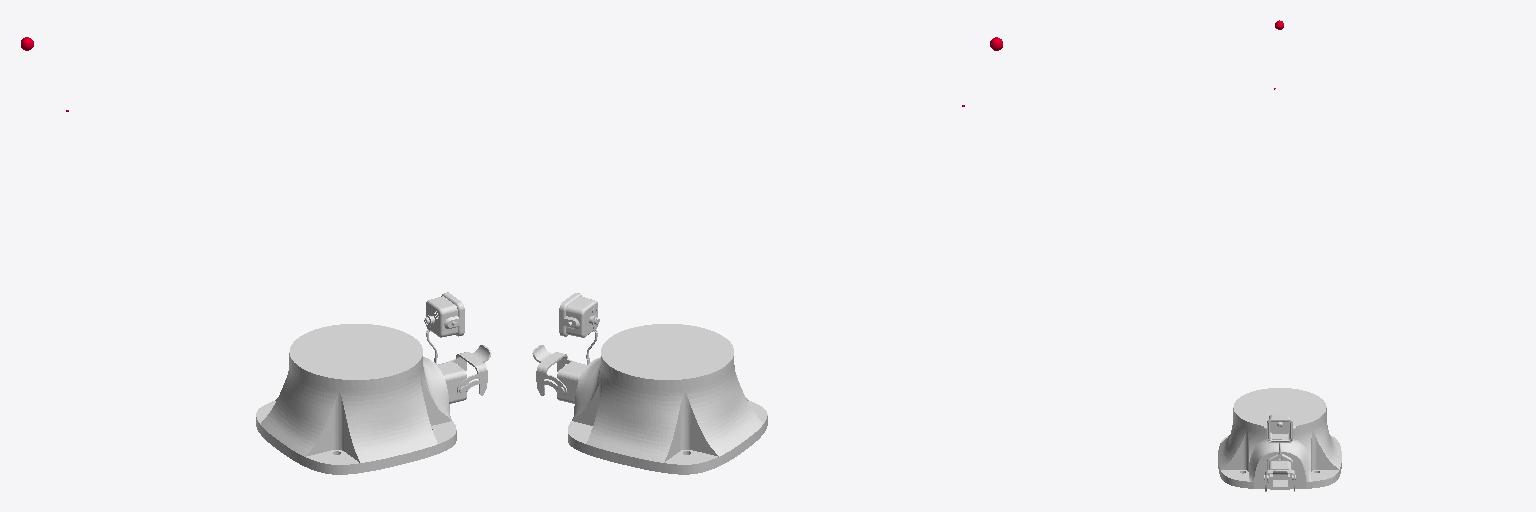
URDF robot description (mg400):
<?xml version="1.0" ?>
<robot name="mg400">
	<link name="world">
		<inertial>
			<origin rpy="0.00000 -0.00000 0.00000" xyz="0.00000 0.00000 0.00000"/>
			<mass value="0.00000"/>
			<inertia ixx="0.00000" ixy="0" ixz="0" iyy="0.00000" iyz="0" izz="0.00000"/>
		</inertial>
	</link>
	<link name="base_link">
		<inertial>
			<origin rpy="0.00000 -0.00000 0.00000" xyz="0.00060 -0.00000 0.05609"/>
			<mass value="3.62165"/>
			<inertia ixx="0.01587" ixy="0" ixz="0" iyy="0.01587" iyz="0" izz="0.02319"/>
		</inertial>
		<visual>
			<origin rpy="0.00000 -0.00000 0.00000" xyz="0.00000 0.00000 0.00000"/>
			<geometry>
				<mesh filename="../robot_arm_assets/mg400/meshes/base_link.STL" scale="1.00000 1.00000 1.00000"/>
			</geometry>
			<material name="mat_0">
				<color rgba="0.90000 0.90000 0.90000 1.00000" />
			</material>
		</visual>
		<collision>
			<origin rpy="0.00000 -0.00000 0.00000" xyz="0.00000 0.00000 0.00000"/>
			<geometry>
				<mesh filename="../robot_arm_assets/mg400/meshes/base_link.STL" scale="1.00000 1.00000 1.00000"/>
			</geometry>
		</collision>
	</link>
	<link name="link1">
		<inertial>
			<origin rpy="0.00000 -0.00000 0.00000" xyz="-0.00462 -0.00007 0.07099"/>
			<mass value="1.77056"/>
			<inertia ixx="0.00748" ixy="0" ixz="0" iyy="0.00775" iyz="0" izz="0.00787"/>
		</inertial>
		<visual>
			<origin rpy="0.00000 -0.00000 0.00000" xyz="0.00000 0.00000 0.00000"/>
			<geometry>
				<mesh filename="../robot_arm_assets/mg400/meshes/link1.STL" scale="1.00000 1.00000 1.00000"/>
			</geometry>
			<material name="mat_1">
				<color rgba="0.30000 0.30000 0.30000 1.00000" />
			</material>
		</visual>
		<collision>
			<origin rpy="0.00000 -0.00000 0.00000" xyz="0.00000 0.00000 0.00000"/>
			<geometry>
				<mesh filename="../robot_arm_assets/mg400/meshes/link1.STL" scale="1.00000 1.00000 1.00000"/>
			</geometry>
		</collision>
	</link>
	<link name="link2_1">
		<inertial>
			<origin rpy="0.00000 -0.00000 0.00000" xyz="-0.00322 0.03529 0.05961"/>
			<mass value="0.08661"/>
			<inertia ixx="0.00038" ixy="0" ixz="0" iyy="0.00035" iyz="0" izz="0.00006"/>
		</inertial>
		<visual>
			<origin rpy="0.00000 -0.00000 0.00000" xyz="0.00000 0.00000 0.00000"/>
			<geometry>
				<mesh filename="../robot_arm_assets/mg400/meshes/link2_1.STL" scale="1.00000 1.00000 1.00000"/>
			</geometry>
			<material name="mat_2">
				<color rgba="0.30000 0.30000 0.30000 1.00000" />
			</material>
		</visual>
		<collision>
			<origin rpy="0.00000 -0.00000 0.00000" xyz="0.00000 0.00000 0.00000"/>
			<geometry>
				<mesh filename="../robot_arm_assets/mg400/meshes/link2_1.STL" scale="1.00000 1.00000 1.00000"/>
			</geometry>
		</collision>
	</link>
	<link name="link3_1">
		<inertial>
			<origin rpy="0.00000 -0.00000 0.00000" xyz="0.08217 0.00011 -0.00334"/>
			<mass value="0.03752"/>
			<inertia ixx="0.00001" ixy="0" ixz="0" iyy="0.00018" iyz="0" izz="0.00018"/>
		</inertial>
		<visual>
			<origin rpy="0.00000 -0.00000 0.00000" xyz="0.00000 0.00000 0.00000"/>
			<geometry>
				<mesh filename="../robot_arm_assets/mg400/meshes/link3_1.STL" scale="1.00000 1.00000 1.00000"/>
			</geometry>
			<material name="mat_3">
				<color rgba="0.30000 0.30000 0.30000 1.00000" />
			</material>
		</visual>
		<collision>
			<origin rpy="0.00000 -0.00000 0.00000" xyz="0.00000 0.00000 0.00000"/>
			<geometry>
				<mesh filename="../robot_arm_assets/mg400/meshes/link3_1.STL" scale="1.00000 1.00000 1.00000"/>
			</geometry>
		</collision>
	</link>
	<link name="link4_1">
		<inertial>
			<origin rpy="0.00000 -0.00000 0.00000" xyz="0.03879 0.01708 -0.00246"/>
			<mass value="0.06290"/>
			<inertia ixx="0.00006" ixy="0" ixz="0" iyy="0.00010" iyz="0" izz="0.00007"/>
		</inertial>
		<visual>
			<origin rpy="0.00000 -0.00000 0.00000" xyz="0.00000 0.00000 0.00000"/>
			<geometry>
				<mesh filename="../robot_arm_assets/mg400/meshes/link4_1.STL" scale="1.00000 1.00000 1.00000"/>
			</geometry>
			<material name="mat_4">
				<color rgba="0.90000 0.90000 0.90000 1.00000" />
			</material>
		</visual>
		<collision>
			<origin rpy="0.00000 -0.00000 0.00000" xyz="0.00000 0.00000 0.00000"/>
			<geometry>
				<mesh filename="../robot_arm_assets/mg400/meshes/link4_1.STL" scale="1.00000 1.00000 1.00000"/>
			</geometry>
		</collision>
	</link>
	<link name="link5">
		<inertial>
			<origin rpy="0.00000 -0.00000 0.00000" xyz="0.00000 0.00000 -0.03497"/>
			<mass value="0.09653"/>
			<inertia ixx="0.00008" ixy="0" ixz="0" iyy="0.00008" iyz="0" izz="0.00003"/>
		</inertial>
		<visual>
			<origin rpy="0.00000 -0.00000 0.00000" xyz="0.00000 0.00000 0.00000"/>
			<geometry>
				<mesh filename="../robot_arm_assets/mg400/meshes/link5.STL" scale="1.00000 1.00000 1.00000"/>
			</geometry>
			<material name="mat_5">
				<color rgba="0.90000 0.90000 0.90000 1.00000" />
			</material>
		</visual>
		<collision>
			<origin rpy="0.00000 -0.00000 0.00000" xyz="0.00000 0.00000 0.00000"/>
			<geometry>
				<mesh filename="../robot_arm_assets/mg400/meshes/link5.STL" scale="1.00000 1.00000 1.00000"/>
			</geometry>
		</collision>
	</link>
	<link name="ee_link">
		<inertial>
			<origin rpy="-3.14000 -0.00000 1.57000" xyz="0.00000 0.00000 0.00000"/>
			<mass value="0.00000"/>
			<inertia ixx="0.00000" ixy="0" ixz="0" iyy="0.00000" iyz="0" izz="0.00000"/>
		</inertial>
		<visual>
			<origin rpy="0.00000 -0.00000 0.00000" xyz="0.00000 0.00000 0.00000"/>
			<geometry>
				<sphere radius="0.00500"/>
			</geometry>
			<material name="mat_6">
				<color rgba="0.90000 0.00000 0.20000 1.00000" />
			</material>
		</visual>
		<collision>
			<origin rpy="0.00000 -0.00000 0.00000" xyz="0.00000 0.00000 0.00000"/>
			<geometry>
				<sphere radius="0.00100"/>
			</geometry>
		</collision>
	</link>
	<link name="link2_2">
		<inertial>
			<origin rpy="0.00000 -0.00000 0.00000" xyz="-0.02011 0.03050 0.07363"/>
			<mass value="0.06625"/>
			<inertia ixx="0.00025" ixy="0" ixz="0" iyy="0.00024" iyz="0" izz="0.00004"/>
		</inertial>
		<visual>
			<origin rpy="0.00000 -0.00000 0.00000" xyz="0.00000 0.00000 0.00000"/>
			<geometry>
				<mesh filename="../robot_arm_assets/mg400/meshes/link2_2.STL" scale="1.00000 1.00000 1.00000"/>
			</geometry>
			<material name="mat_7">
				<color rgba="0.90000 0.90000 0.90000 1.00000" />
			</material>
		</visual>
		<collision>
			<origin rpy="0.00000 -0.00000 0.00000" xyz="0.00000 0.00000 0.00000"/>
			<geometry>
				<mesh filename="../robot_arm_assets/mg400/meshes/link2_2.STL" scale="1.00000 1.00000 1.00000"/>
			</geometry>
		</collision>
	</link>
	<link name="link3_2">
		<inertial>
			<origin rpy="0.00000 -0.00000 0.00000" xyz="0.03386 0.02402 0.00452"/>
			<mass value="0.03667"/>
			<inertia ixx="0.00002" ixy="0" ixz="0" iyy="0.00004" iyz="0" izz="0.00004"/>
		</inertial>
		<visual>
			<origin rpy="0.00000 -0.00000 0.00000" xyz="0.00000 0.00000 0.00000"/>
			<geometry>
				<mesh filename="../robot_arm_assets/mg400/meshes/link3_2.STL" scale="1.00000 1.00000 1.00000"/>
			</geometry>
			<material name="mat_8">
				<color rgba="0.30000 0.30000 0.30000 1.00000" />
			</material>
		</visual>
		<collision>
			<origin rpy="0.00000 -0.00000 0.00000" xyz="0.00000 0.00000 0.00000"/>
			<geometry>
				<mesh filename="../robot_arm_assets/mg400/meshes/link3_2.STL" scale="1.00000 1.00000 1.00000"/>
			</geometry>
		</collision>
	</link>
	<link name="link4_2">
		<inertial>
			<origin rpy="0.00000 -0.00000 0.00000" xyz="0.08764 0.02350 0.00831"/>
			<mass value="0.04536"/>
			<inertia ixx="0.00002" ixy="0" ixz="0" iyy="0.00016" iyz="0" izz="0.00016"/>
		</inertial>
		<visual>
			<origin rpy="0.00000 -0.00000 0.00000" xyz="0.00000 0.00000 0.00000"/>
			<geometry>
				<mesh filename="../robot_arm_assets/mg400/meshes/link4_2.STL" scale="1.00000 1.00000 1.00000"/>
			</geometry>
			<material name="mat_9">
				<color rgba="0.90000 0.90000 0.90000 1.00000" />
			</material>
		</visual>
		<collision>
			<origin rpy="0.00000 -0.00000 0.00000" xyz="0.00000 0.00000 0.00000"/>
			<geometry>
				<mesh filename="../robot_arm_assets/mg400/meshes/link4_2.STL" scale="1.00000 1.00000 1.00000"/>
			</geometry>
		</collision>
	</link>
	<link name="digitac_body_link">
		<inertial>
			<origin rpy="0.00000 -0.00000 0.00000" xyz="0.00445 -0.01376 -0.00000"/>
			<mass value="0.00792"/>
			<inertia ixx="0.00000" ixy="0" ixz="0" iyy="0.00000" iyz="0" izz="0.00000"/>
		</inertial>
		<visual>
			<origin rpy="0.00000 -0.00000 0.00000" xyz="0.00000 0.00000 0.02000"/>
			<geometry>
				<mesh filename="../sensor_assets/right_angle_digitac/../standard_digitac/body/digitac_body.stl" scale="1.00000 1.00000 1.00000"/>
			</geometry>
			<material name="mat_10">
				<color rgba="0.80000 0.80000 0.80000 1.00000" />
			</material>
		</visual>
		<collision>
			<origin rpy="0.00000 -0.00000 0.00000" xyz="0.00000 0.00000 0.02000"/>
			<geometry>
				<mesh filename="../sensor_assets/right_angle_digitac/../standard_digitac/body/digitac_body.stl" scale="1.00000 1.00000 1.00000"/>
			</geometry>
		</collision>
	</link>
	<link name="digitac_tip_link">
		<inertial>
			<origin rpy="0.00000 -0.00000 0.00000" xyz="0.00002 -0.00418 -0.00513"/>
			<mass value="0.00021"/>
			<inertia ixx="0.00000" ixy="0" ixz="0" iyy="0.00000" iyz="0" izz="0.00000"/>
		</inertial>
		<visual>
			<origin rpy="0.00000 -0.00000 0.00000" xyz="0.00000 0.00000 -0.02000"/>
			<geometry>
				<mesh filename="../sensor_assets/right_angle_digitac/../standard_digitac/tip/digitac_skin.stl" scale="1.00000 1.00000 1.00000"/>
			</geometry>
			<material name="mat_11">
				<color rgba="0.00000 0.00000 0.00000 1.00000" />
			</material>
		</visual>
		<collision>
			<origin rpy="0.00000 -0.00000 0.00000" xyz="0.00000 0.00000 -0.02000"/>
			<geometry>
				<mesh filename="../sensor_assets/right_angle_digitac/../standard_digitac/tip/digitac_skin.stl" scale="1.00000 1.00000 1.00000"/>
			</geometry>
		</collision>
	</link>
	<link name="tcp_link">
		<inertial>
			<origin rpy="0.00000 -0.00000 1.57000" xyz="0.00000 0.00000 0.00000"/>
			<mass value="0.00000"/>
			<inertia ixx="0.00000" ixy="0" ixz="0" iyy="0.00000" iyz="0" izz="0.00000"/>
		</inertial>
		<visual>
			<origin rpy="0.00000 -0.00000 0.00000" xyz="0.00000 0.00000 0.00000"/>
			<geometry>
				<sphere radius="0.00100"/>
			</geometry>
			<material name="mat_12">
				<color rgba="0.90000 0.00000 0.20000 0.50000" />
			</material>
		</visual>
	</link>
	<joint name="world_joint" type="fixed">
		<parent link="world"/>
		<child link="base_link"/>
		<dynamics damping="1.0" friction="0.0001"/>
		<origin rpy="0.00000 -0.00000 -3.14000" xyz="0.00000 0.00000 0.00000"/>
		<axis xyz="0.00000 0.00000 0.00000"/>
	</joint>
	<joint name="j1" type="revolute">
		<parent link="base_link"/>
		<child link="link1"/>
		<limit effort="0.00000" lower="-3.14000" upper="3.14000" velocity="0.00000"/>
		<dynamics damping="1.0" friction="0.0001"/>
		<origin rpy="0.00000 -0.00000 0.00000" xyz="-0.00500 0.00000 0.10900"/>
		<axis xyz="0.00000 0.00000 1.00000"/>
	</joint>
	<joint name="j2_1" type="revolute">
		<parent link="link1"/>
		<child link="link2_1"/>
		<limit effort="0.00000" lower="-3.14000" upper="3.14000" velocity="0.00000"/>
		<dynamics damping="1.0" friction="0.0001"/>
		<origin rpy="0.00000 -0.00000 0.00000" xyz="0.04350 -0.03577 0.11900"/>
		<axis xyz="0.00000 1.00000 0.00000"/>
	</joint>
	<joint name="j3_1" type="revolute">
		<parent link="link2_1"/>
		<child link="link3_1"/>
		<limit effort="0.00000" lower="-3.14000" upper="3.14000" velocity="0.00000"/>
		<dynamics damping="1.0" friction="0.0001"/>
		<origin rpy="0.00000 -0.00000 0.00000" xyz="-0.00105 0.03577 0.17500"/>
		<axis xyz="0.00000 1.00000 0.00000"/>
	</joint>
	<joint name="j4_1" type="revolute">
		<parent link="link3_1"/>
		<child link="link4_1"/>
		<limit effort="0.00000" lower="-3.14000" upper="3.14000" velocity="0.00000"/>
		<dynamics damping="1.0" friction="0.0001"/>
		<origin rpy="0.00000 -0.00000 0.00000" xyz="0.17497 -0.01700 0.00325"/>
		<axis xyz="0.00000 1.00000 0.00000"/>
	</joint>
	<joint name="j5" type="revolute">
		<parent link="link4_1"/>
		<child link="link5"/>
		<limit effort="0.00000" lower="-3.14000" upper="3.14000" velocity="0.00000"/>
		<dynamics damping="1.0" friction="0.0001"/>
		<origin rpy="0.00000 -0.00000 0.00000" xyz="0.06600 0.01700 0.03100"/>
		<axis xyz="-0.00001 0.00000 1.00000"/>
	</joint>
	<joint name="ee_joint" type="fixed">
		<parent link="link5"/>
		<child link="ee_link"/>
		<dynamics damping="1.0" friction="0.0001"/>
		<origin rpy="0.00000 -0.00000 0.00000" xyz="0.00000 0.00000 -0.06500"/>
		<axis xyz="0.00000 0.00000 0.00000"/>
	</joint>
	<joint name="j2_2" type="revolute">
		<parent link="link1"/>
		<child link="link2_2"/>
		<limit effort="0.00000" lower="-3.14000" upper="3.14000" velocity="0.00000"/>
		<dynamics damping="1.0" friction="0.0001"/>
		<origin rpy="0.00000 -0.00000 0.00000" xyz="0.00453 -0.03050 0.14150"/>
		<axis xyz="0.00000 1.00000 0.00000"/>
	</joint>
	<joint name="j3_2" type="revolute">
		<parent link="link2_2"/>
		<child link="link3_2"/>
		<limit effort="0.00000" lower="-3.14000" upper="3.14000" velocity="0.00000"/>
		<dynamics damping="1.0" friction="0.0001"/>
		<origin rpy="0.00000 -0.00000 0.00000" xyz="-0.00105 0.00650 0.17500"/>
		<axis xyz="0.00000 1.00000 0.00000"/>
	</joint>
	<joint name="j4_2" type="revolute">
		<parent link="link3_2"/>
		<child link="link4_2"/>
		<limit effort="0.00000" lower="-3.14000" upper="3.14000" velocity="0.00000"/>
		<dynamics damping="1.0" friction="0.0001"/>
		<origin rpy="0.00000 -0.00000 0.00000" xyz="0.06790 0.00050 0.01197"/>
		<axis xyz="0.00000 1.00000 0.00000"/>
	</joint>
	<joint name="joint_dummy1" type="fixed">
		<parent link="ee_link"/>
		<child link="digitac_body_link"/>
		<dynamics damping="1.0" friction="0.0001"/>
		<origin rpy="-1.57080 -1.57080 1.57080" xyz="0.00000 0.00500 -0.06000"/>
		<axis xyz="0.00000 0.00000 1.00000"/>
	</joint>
	<joint name="digitac_tip_to_body" type="fixed">
		<parent link="digitac_body_link"/>
		<child link="digitac_tip_link"/>
		<dynamics damping="1.0" friction="0.0001"/>
		<origin rpy="3.14159 -0.00000 -1.57080" xyz="0.00000 0.00000 0.00000"/>
		<axis xyz="0.00000 0.00000 0.00000"/>
	</joint>
	<joint name="tcp_joint" type="fixed">
		<parent link="digitac_body_link"/>
		<child link="tcp_link"/>
		<dynamics damping="1.0" friction="0.0001"/>
		<origin rpy="1.57000 -0.00000 -1.57000" xyz="0.00070 0.00000 0.03100"/>
		<axis xyz="0.00000 0.00000 0.00000"/>
	</joint>
</robot>

--- Facts derived from the render (not from the file) ---
The picture shows the robot from 3 angles, left to right: view 1: azimuth 30°, elevation 25°; view 2: azimuth 150°, elevation 25°; view 3: azimuth 270°, elevation 25°; orthographic projection.
Model mg400 with 14 links and 13 joints (8 revolute, 5 fixed), rooted at world, posed all joints at 0.
Visible links, largest first — view 1: base_link; view 2: base_link; view 3: base_link.
Boxes of the visible links, x1,y1,x2,y2 form: base_link: [256, 292, 491, 474]; base_link: [532, 293, 767, 474]; base_link: [1218, 388, 1341, 491].
Bounding box of the posed robot: 0.3937 × 0.13 × 0.3837 m (x, y, z).
Meshes: 11 distinct files referenced, 1 mesh visuals loaded (1 binary STL); not drawn: 10 (reference not matched to a file when rendering).